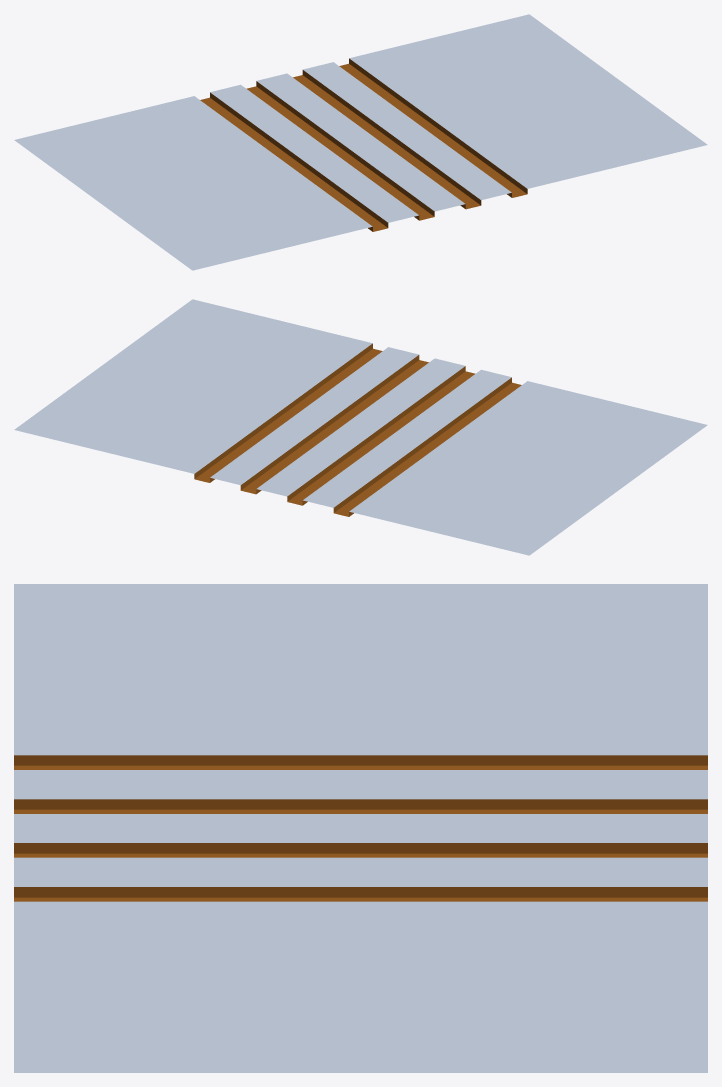
The model's file is tile.fbx.
The picture shows the model from 3 angles, top to bottom: view 1: azimuth 30°, elevation 25°; view 2: azimuth 150°, elevation 25°; view 3: azimuth 270°, elevation 25°; orthographic projection. The views are drawn at different scales.
Parts seen in each view (by area): view 1: Plane; view 2: Plane; view 3: Plane.
Part boxes in pixels (left/top/right/bottom): Plane: left=14, top=14, right=707, bottom=270; Plane: left=14, top=299, right=707, bottom=555; Plane: left=14, top=584, right=707, bottom=1072.
Size of the model in its own units: 10000 by 100 by 6000.
